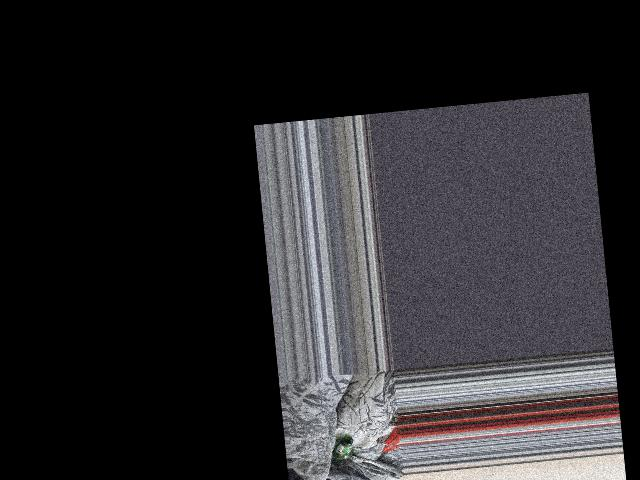beer: (330, 436, 354, 465)
